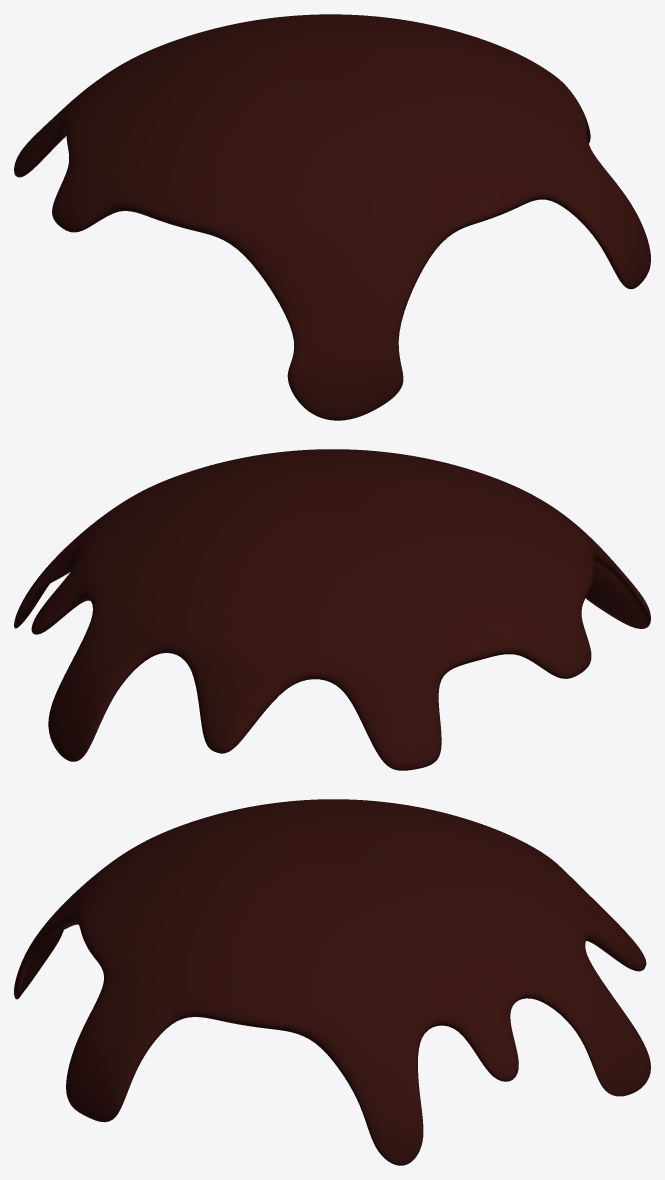
The model's file is qiaokelijiang_01.fbx.
3 views of the same model, one above another, from view 1: azimuth 30°, elevation 25°; view 2: azimuth 150°, elevation 25°; view 3: azimuth 270°, elevation 25° (orthographic).
Visible parts, largest first — view 1: choc; view 2: choc; view 3: choc.
Part boxes in pixels (left/top/right/bottom): choc: left=14, top=14, right=650, bottom=420; choc: left=14, top=449, right=650, bottom=770; choc: left=14, top=799, right=650, bottom=1165.
Size of the model in its own units: 59.58 by 21.47 by 60.22.
